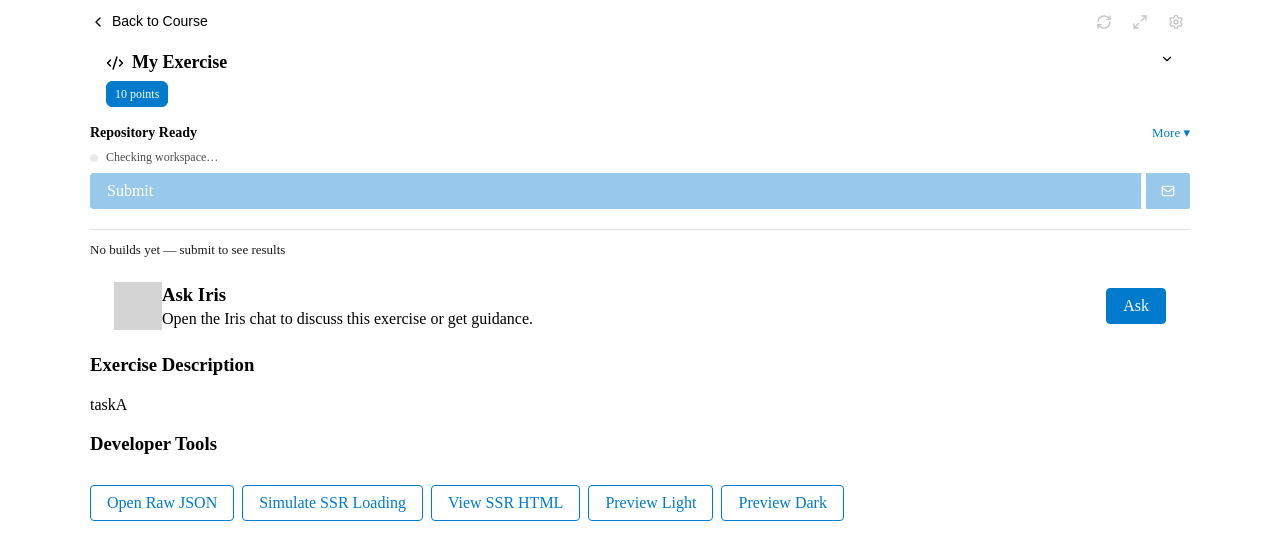
Test: ExerciseDetailView › task overlay shows no-result copy when there is no latest result
Step 1. Click the text with class "artemis-task" → click(109, 404), box top-left (90, 396), bottom-right (127, 413)
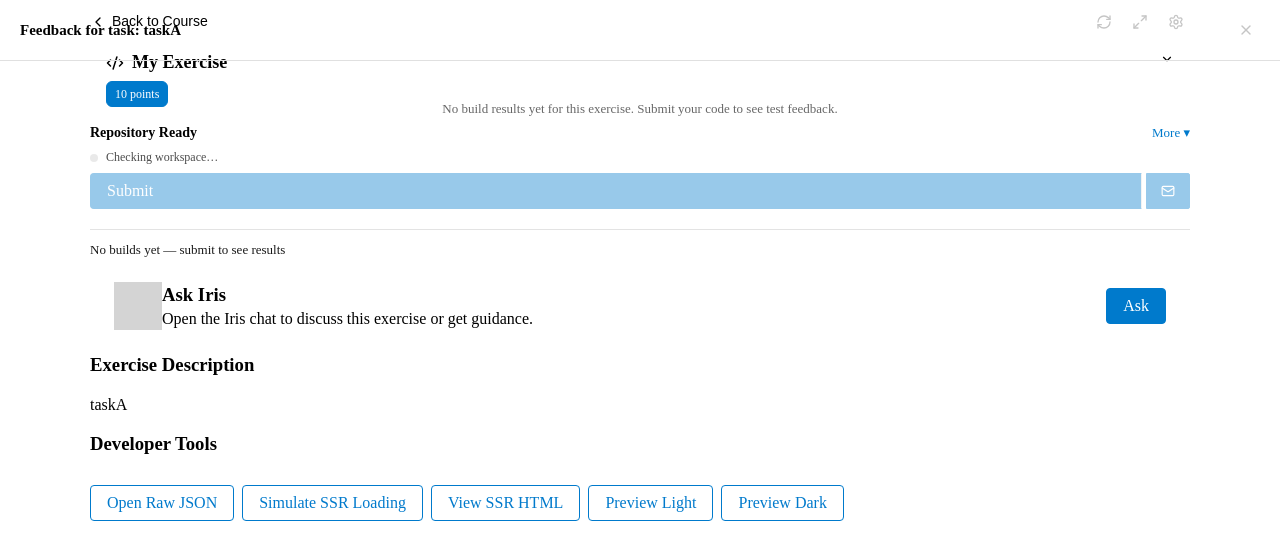
Expected: the text "No build results yet" is shown, top-left (442, 101), bottom-right (838, 116)
